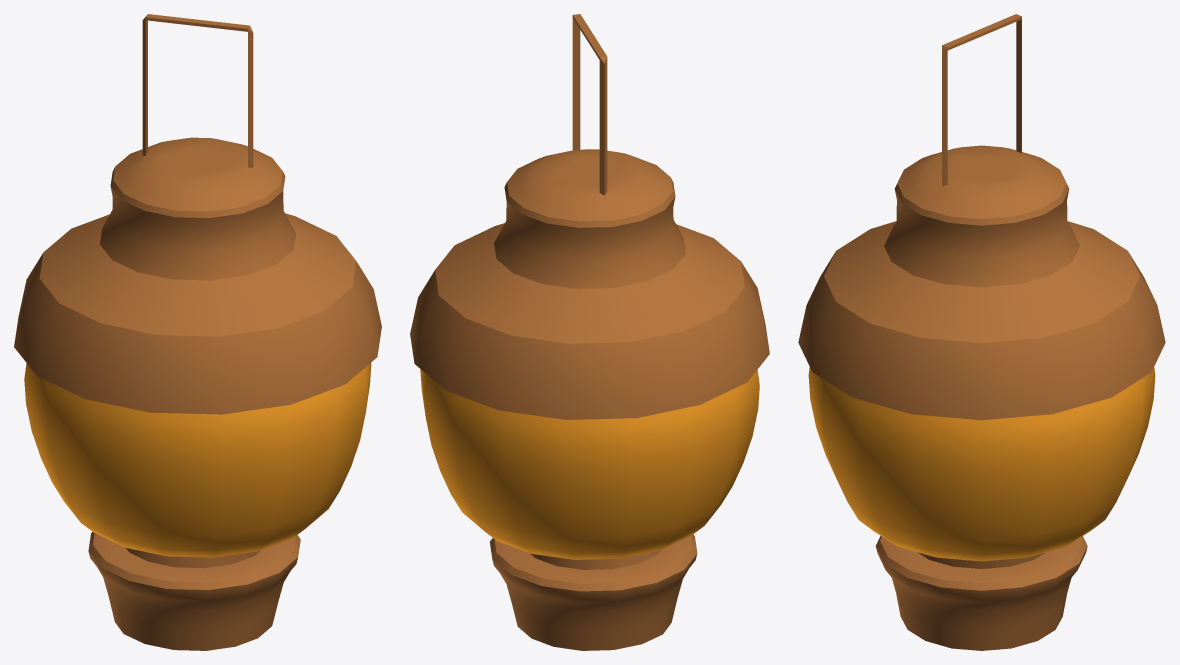
The model's file is Lamp.fbx.
The picture shows the model from 3 angles, left to right: view 1: azimuth 30°, elevation 25°; view 2: azimuth 150°, elevation 25°; view 3: azimuth 270°, elevation 25°; orthographic projection. The views are drawn at different scales.
Parts seen in each view (by area): view 1: Circle.001; view 2: Circle.001; view 3: Circle.001.
Part boxes in pixels (<box>): Circle.001: <box>14,14,381,650</box>; Circle.001: <box>410,14,769,650</box>; Circle.001: <box>798,14,1165,650</box>.
Size of the model in its own units: 114 by 202 by 114.
